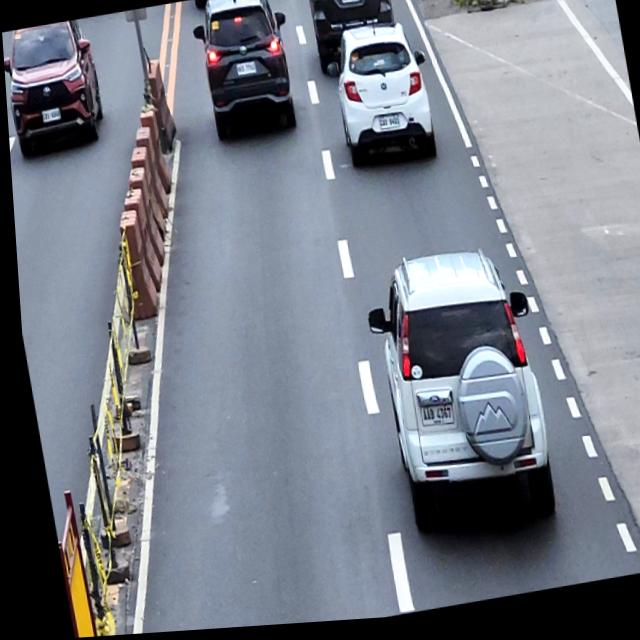Car: (352, 244, 559, 548), (318, 21, 442, 181), (186, 0, 304, 150), (1, 18, 107, 159), (305, 0, 402, 82)
License-Plate: (412, 406, 449, 434), (376, 118, 399, 137), (234, 63, 256, 79), (39, 108, 61, 124), (340, 0, 360, 10)
